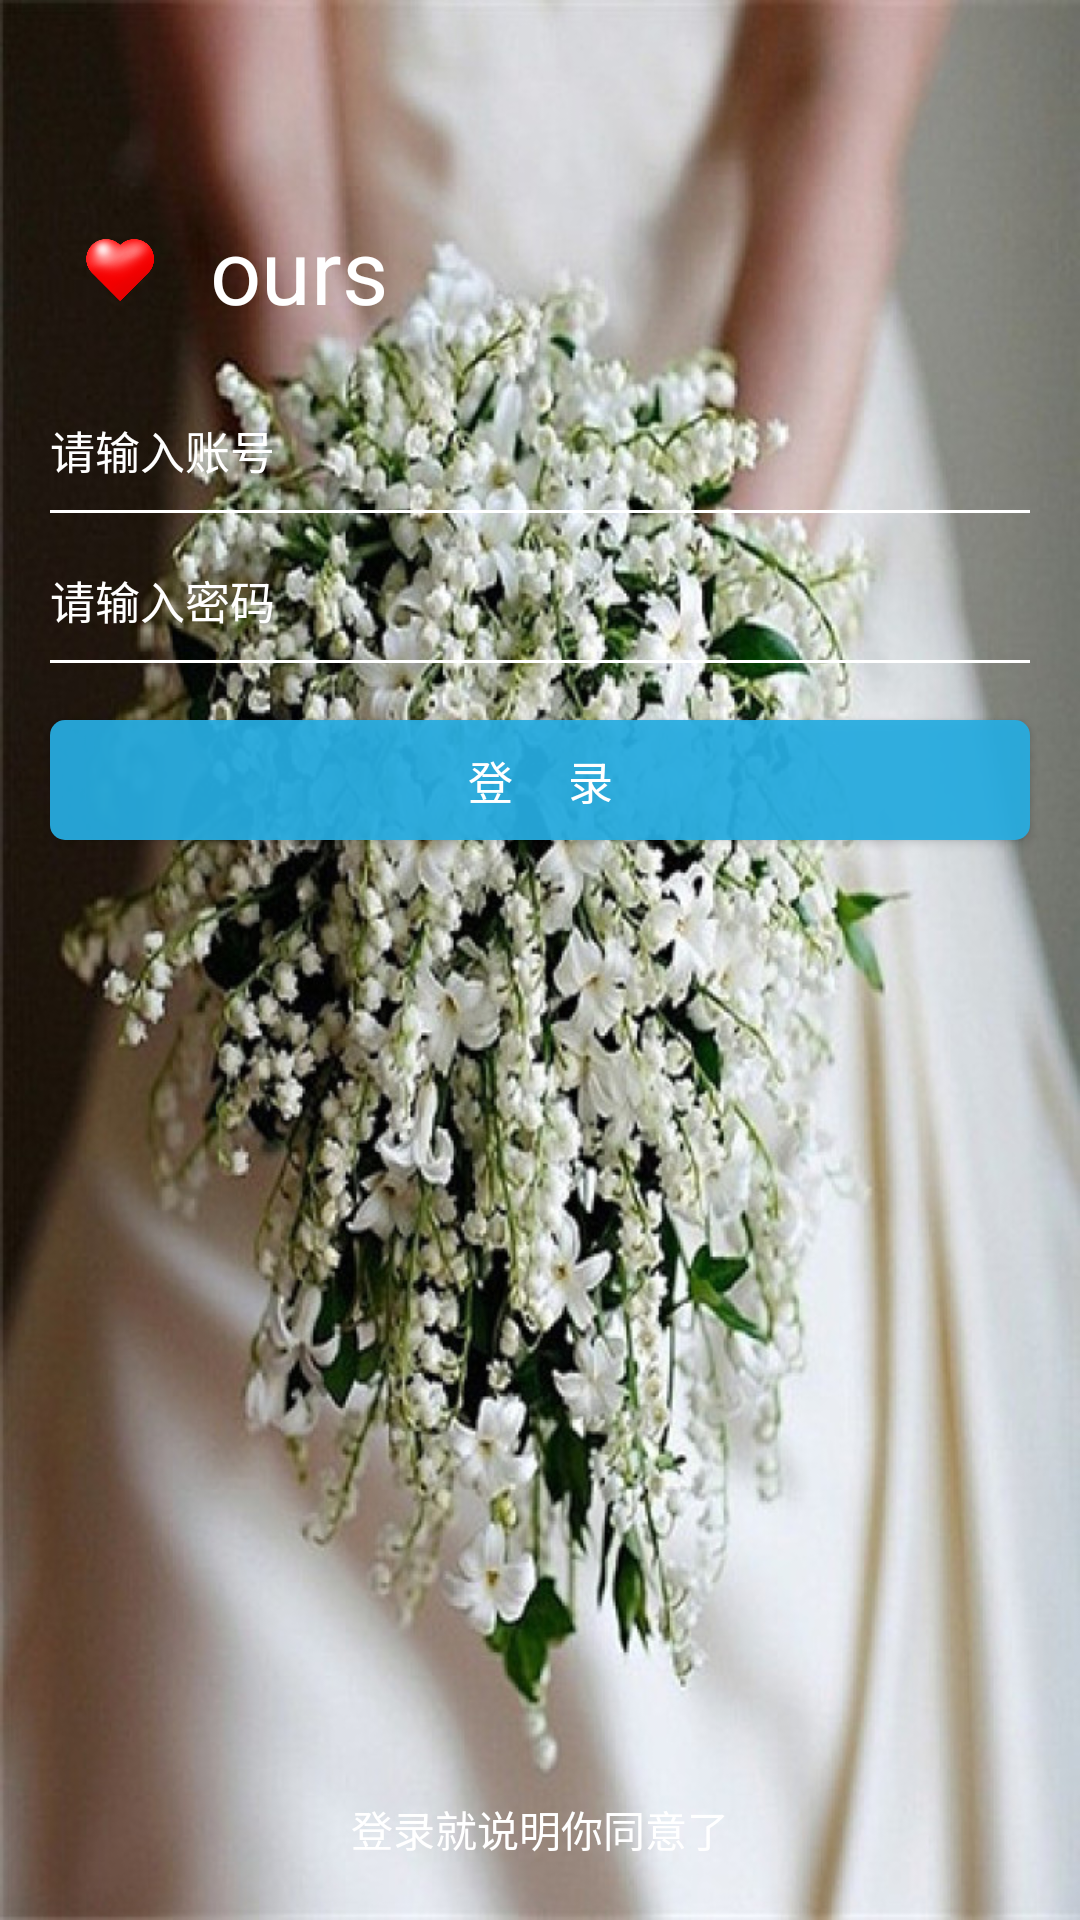

Locate icon controls on the screen. Image size 1080x1920, boxes as BBox(x1, y1, x2, y2).
yl heart: BBox(86, 239, 154, 301)
